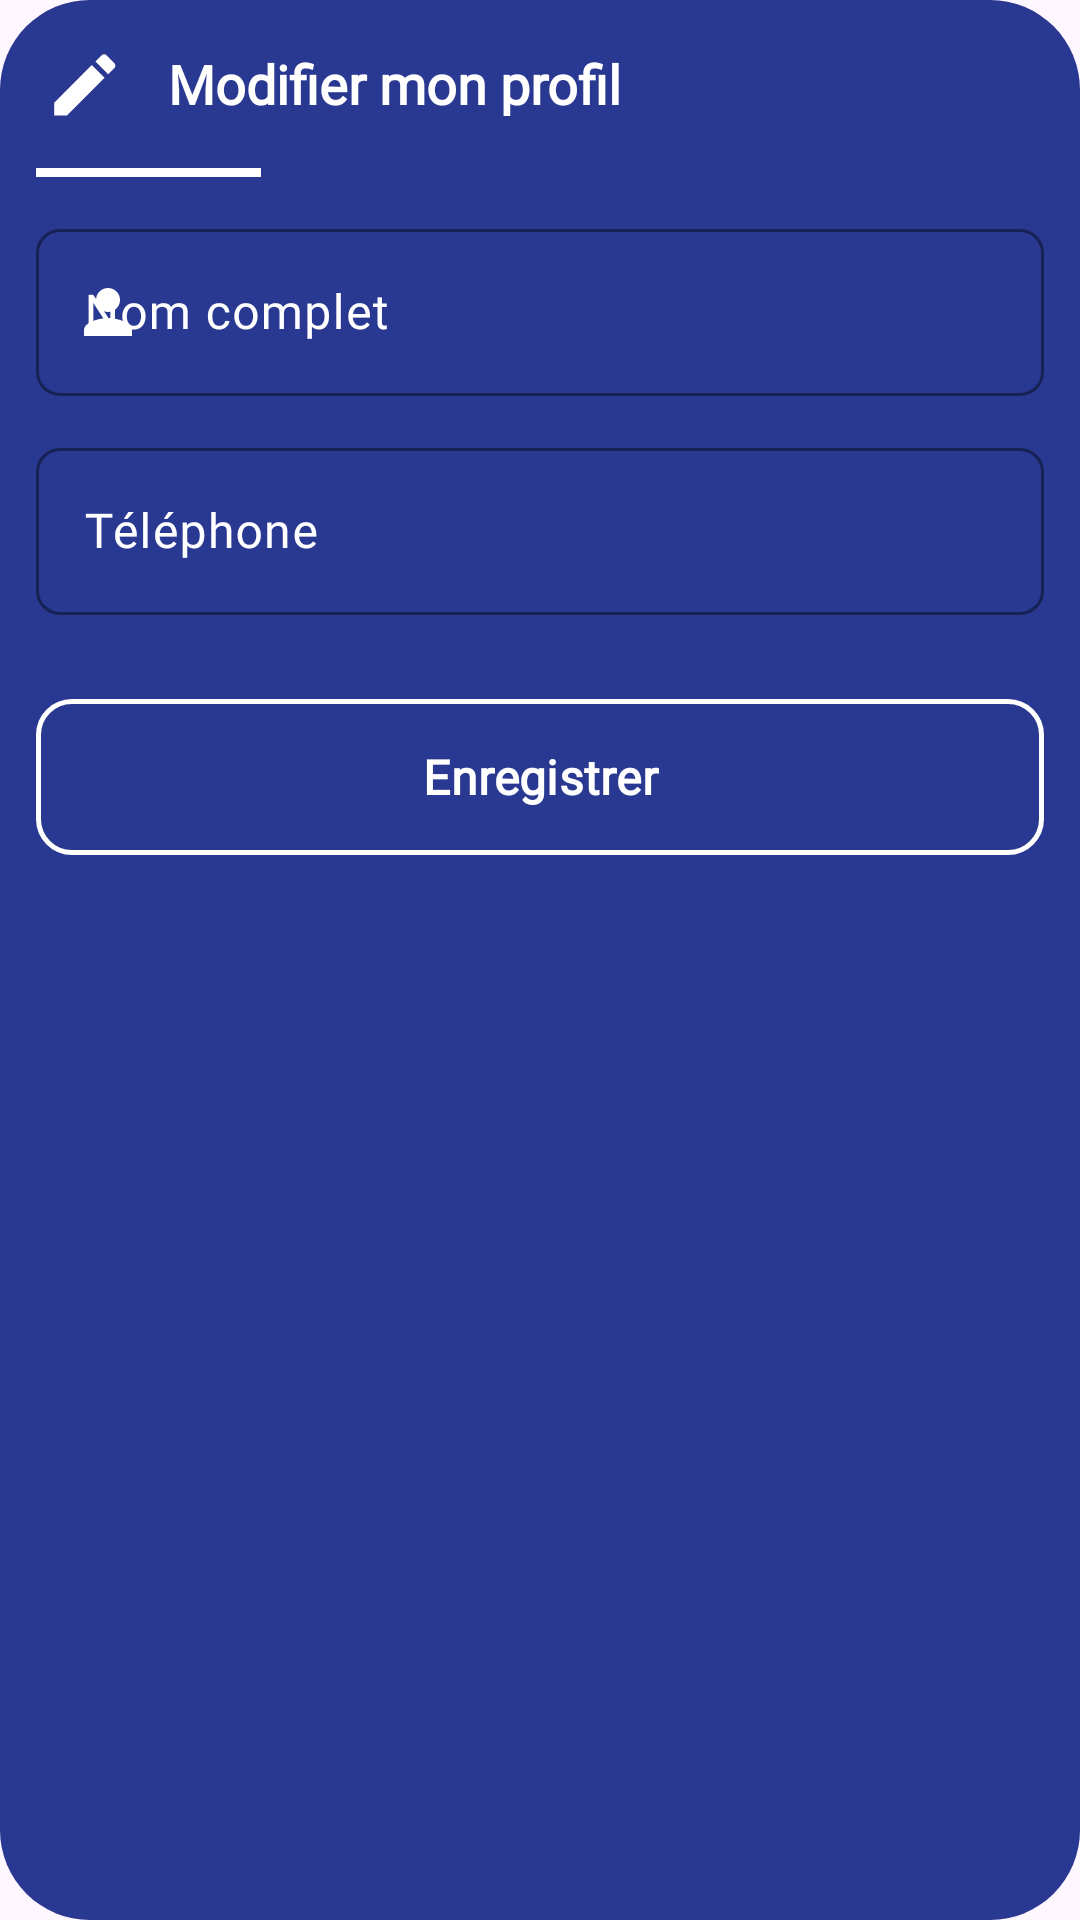

Named icons in this screenshot (1080px x 1920px) and their bounding boxes, (x1, y1, x2, y2):
edit: (54, 54, 116, 116)
